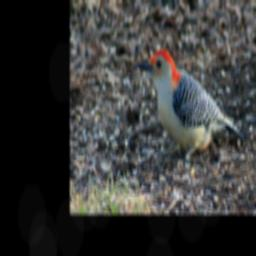Woodpecker: (135, 50, 242, 171)
